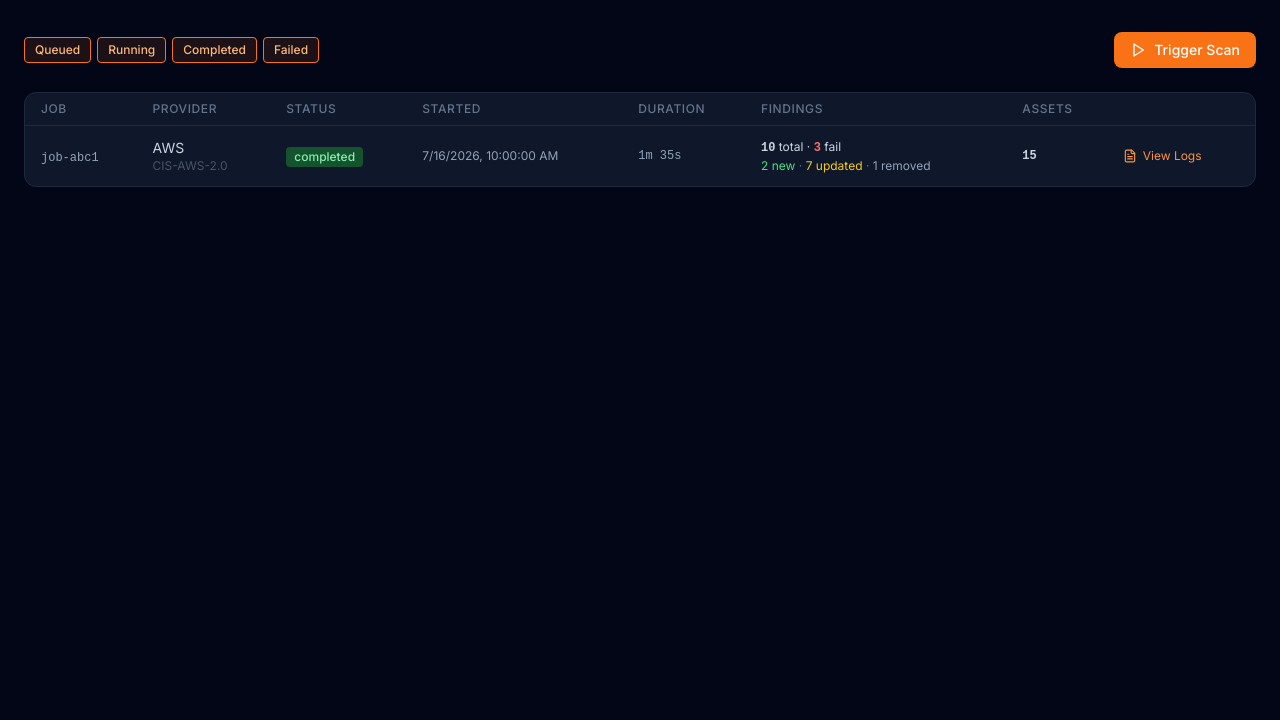
Scenario: ScansPage › opens the logs panel for a finished scan
Click the button "View Logs".
click(1162, 156)  # box [1123,148,1202,164]
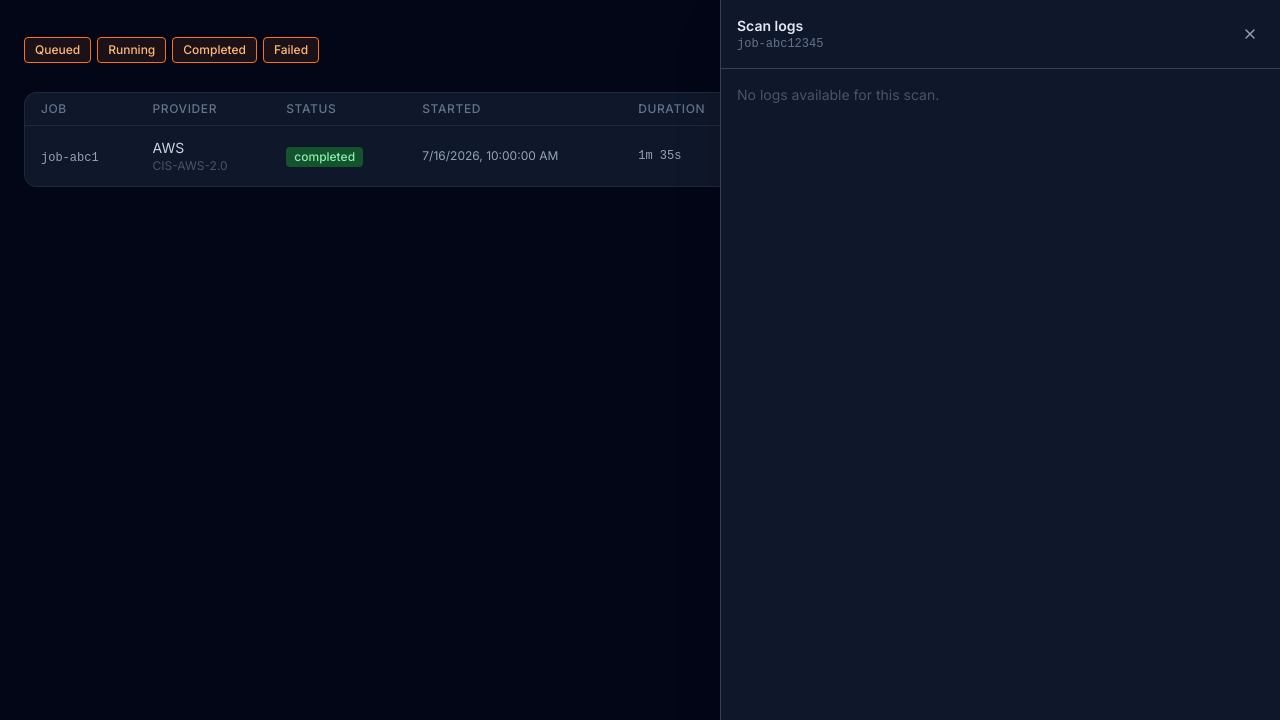
Check: the element with test id "scan-logs-panel" is shown, box [720,0,1279,719]
